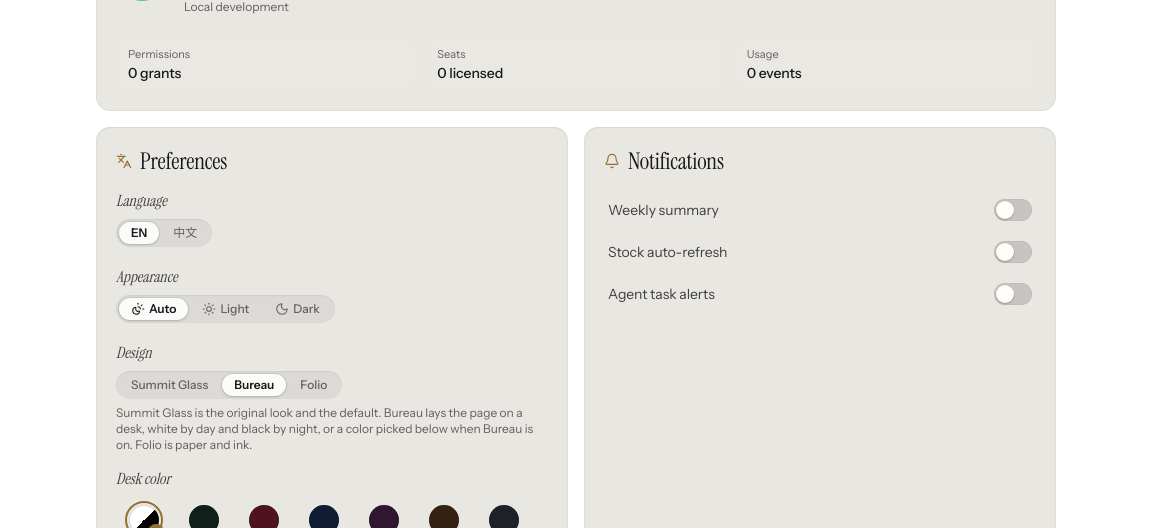
Settings desk color › shows only while Bureau is the design
Click the button with test id "settings-design-folio" at (314, 385), box top-left (288, 374), bottom-right (339, 396)
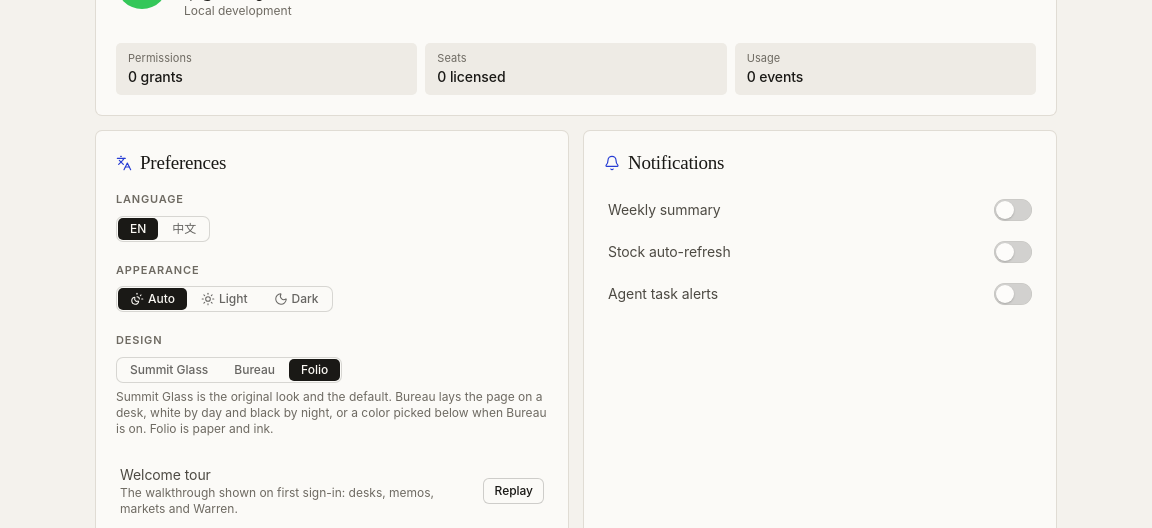
Click the button with test id "settings-design-glass" at (169, 370), box top-left (118, 359), bottom-right (220, 381)
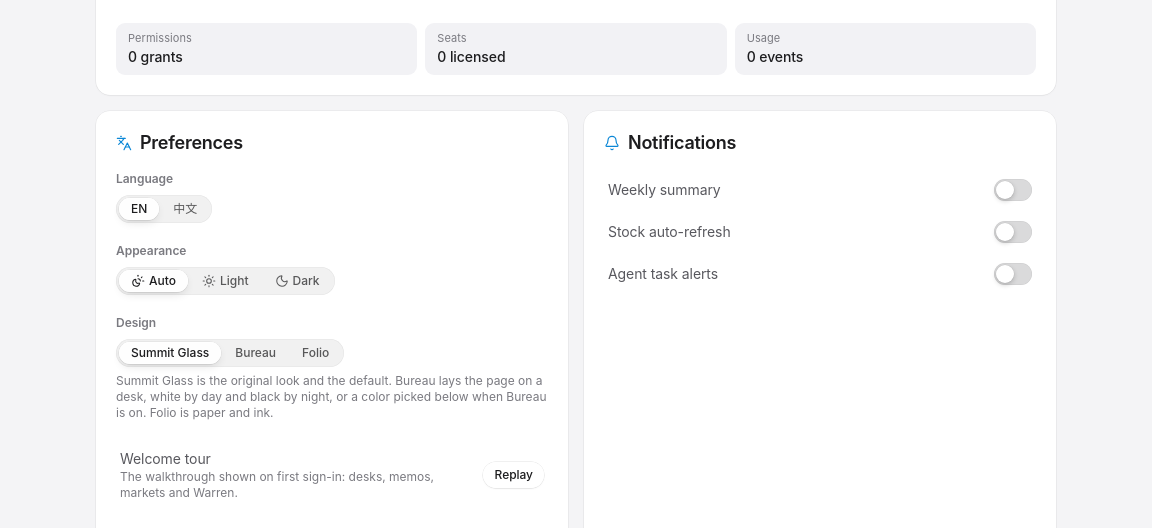
Click the button with test id "settings-design-bureau" at (256, 353), box top-left (223, 342), bottom-right (288, 364)
(page scrolled)
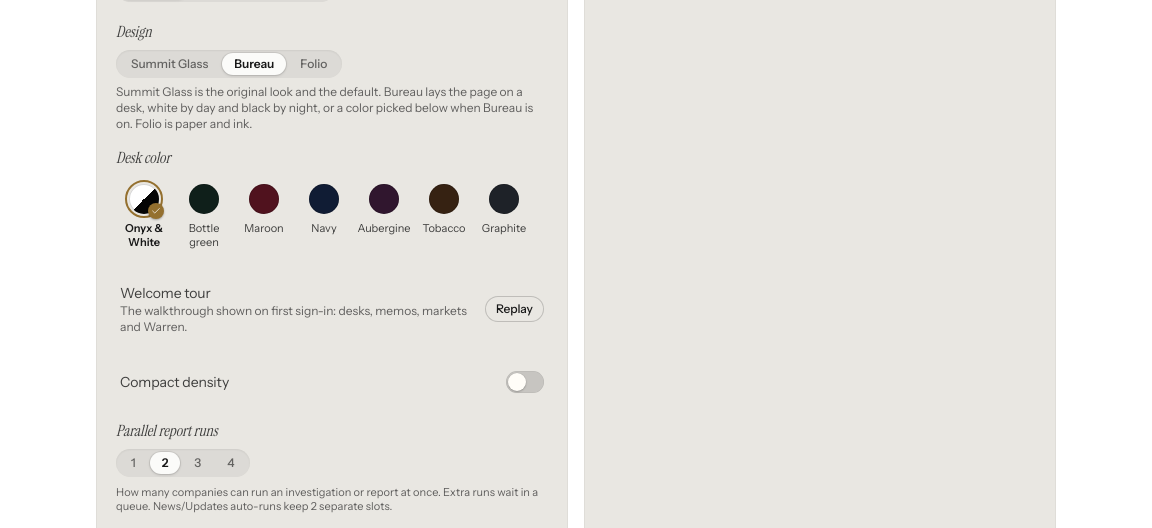
Check: the element with test id "bureau-desk-picker" is shown, box top-left (116, 148), bottom-right (548, 255)
